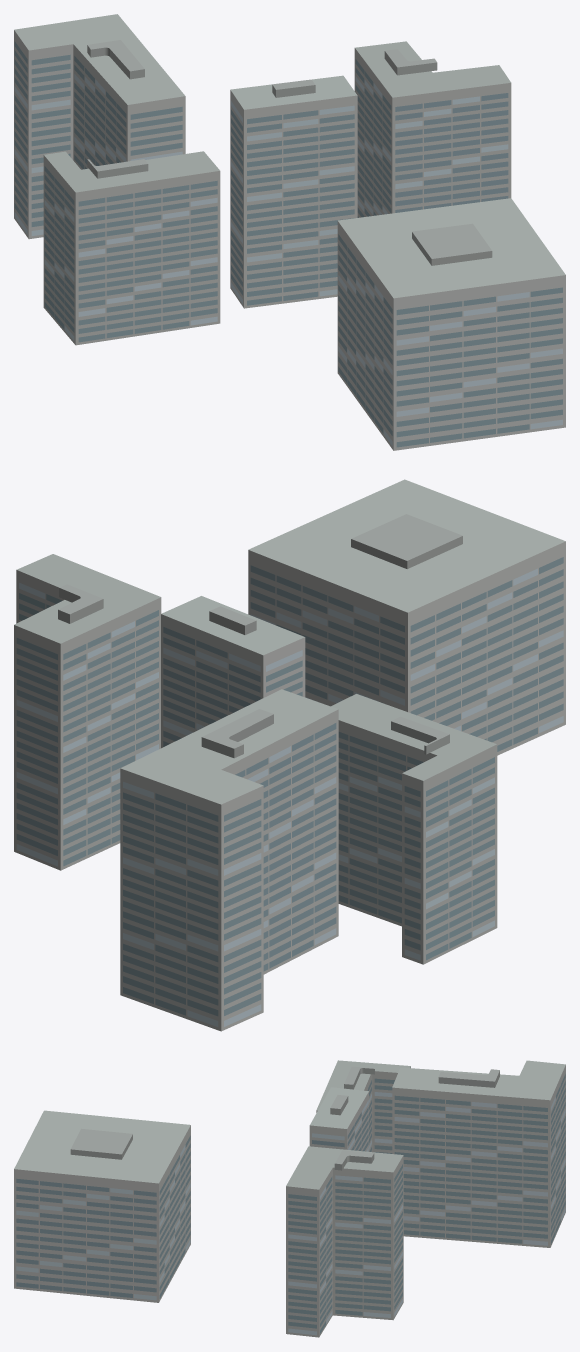
File: apt-a15283706.glb
The picture shows the model from 3 angles, top to bottom: view 1: azimuth 30°, elevation 25°; view 2: azimuth 150°, elevation 25°; view 3: azimuth 270°, elevation 25°; orthographic projection. The views are drawn at different scales.
Visible parts, largest first — view 1: apt-a15283706; view 2: apt-a15283706; view 3: apt-a15283706.
Part boxes in pixels (<box>): apt-a15283706: <box>14,14,565,450</box>; apt-a15283706: <box>14,479,565,1031</box>; apt-a15283706: <box>14,1060,565,1337</box>.
Bounding box in the file's own units: 129 × 62 × 192.
